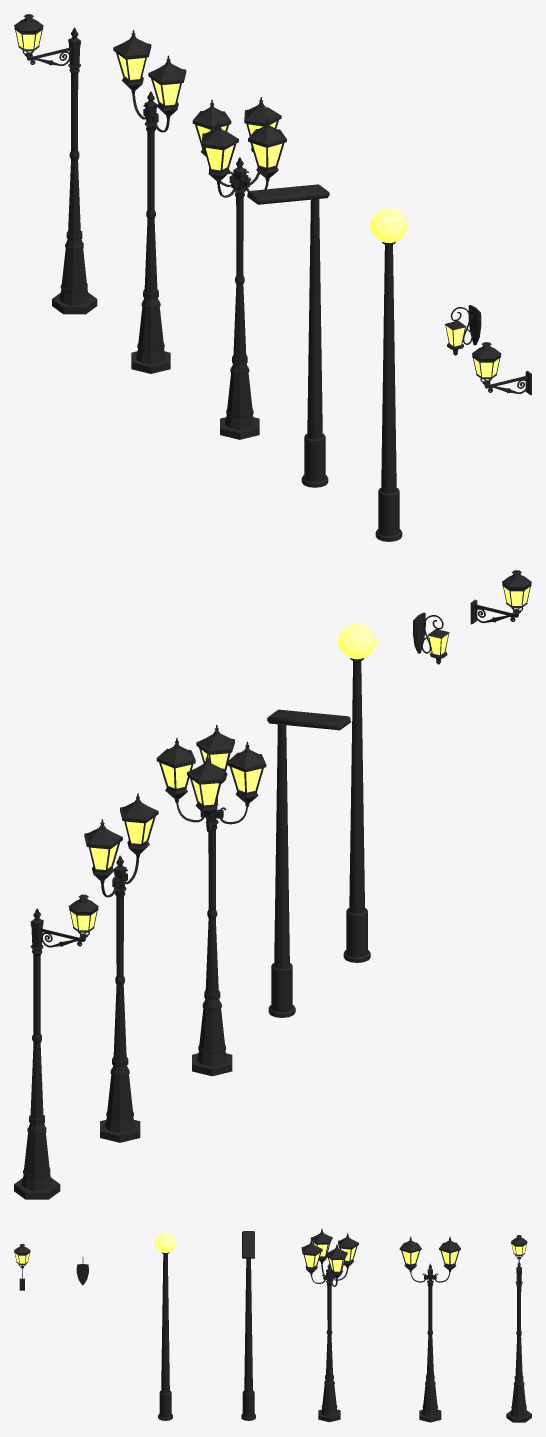
Rendered from simple_collection_of_low_poly_street_lights.glb.
3 renders of one model, top to bottom at view 1: azimuth 30°, elevation 25°; view 2: azimuth 150°, elevation 25°; view 3: azimuth 270°, elevation 25°, orthographic. The views are drawn at different scales.
Parts seen in each view (by area): view 1: classic_street_light_4, classic_street_light_2, street_light_2, street_light_1, classic_street_light, lamppost_wall_2, lamppost_wall_1; view 2: classic_street_light_4, classic_street_light_2, street_light_1, street_light_2, classic_street_light, lamppost_wall_2, lamppost_wall_1; view 3: classic_street_light_4, classic_street_light_2, street_light_2, street_light_1, classic_street_light, lamppost_wall_2.
Part boxes in pixels (bbox=[...]): classic_street_light_4: bbox=[192, 97, 286, 439]; classic_street_light_2: bbox=[113, 30, 186, 373]; street_light_2: bbox=[369, 208, 408, 541]; street_light_1: bbox=[247, 184, 329, 487]; classic_street_light: bbox=[14, 14, 97, 314]; lamppost_wall_2: bbox=[472, 342, 531, 395]; lamppost_wall_1: bbox=[444, 305, 481, 355]; classic_street_light_4: bbox=[156, 725, 266, 1076]; classic_street_light_2: bbox=[84, 793, 158, 1142]; street_light_1: bbox=[267, 709, 350, 1017]; street_light_2: bbox=[337, 624, 376, 962]; classic_street_light: bbox=[14, 894, 98, 1199]; lamppost_wall_2: bbox=[470, 570, 531, 624]; lamppost_wall_1: bbox=[412, 612, 449, 664]; classic_street_light_4: bbox=[301, 1228, 358, 1422]; classic_street_light_2: bbox=[399, 1236, 460, 1422]; street_light_2: bbox=[154, 1233, 176, 1420]; street_light_1: bbox=[241, 1231, 255, 1420]; classic_street_light: bbox=[506, 1235, 531, 1422]; lamppost_wall_2: bbox=[14, 1244, 30, 1290].
Size of the model in its own units: 1.33 by 4.03 by 10.33.
